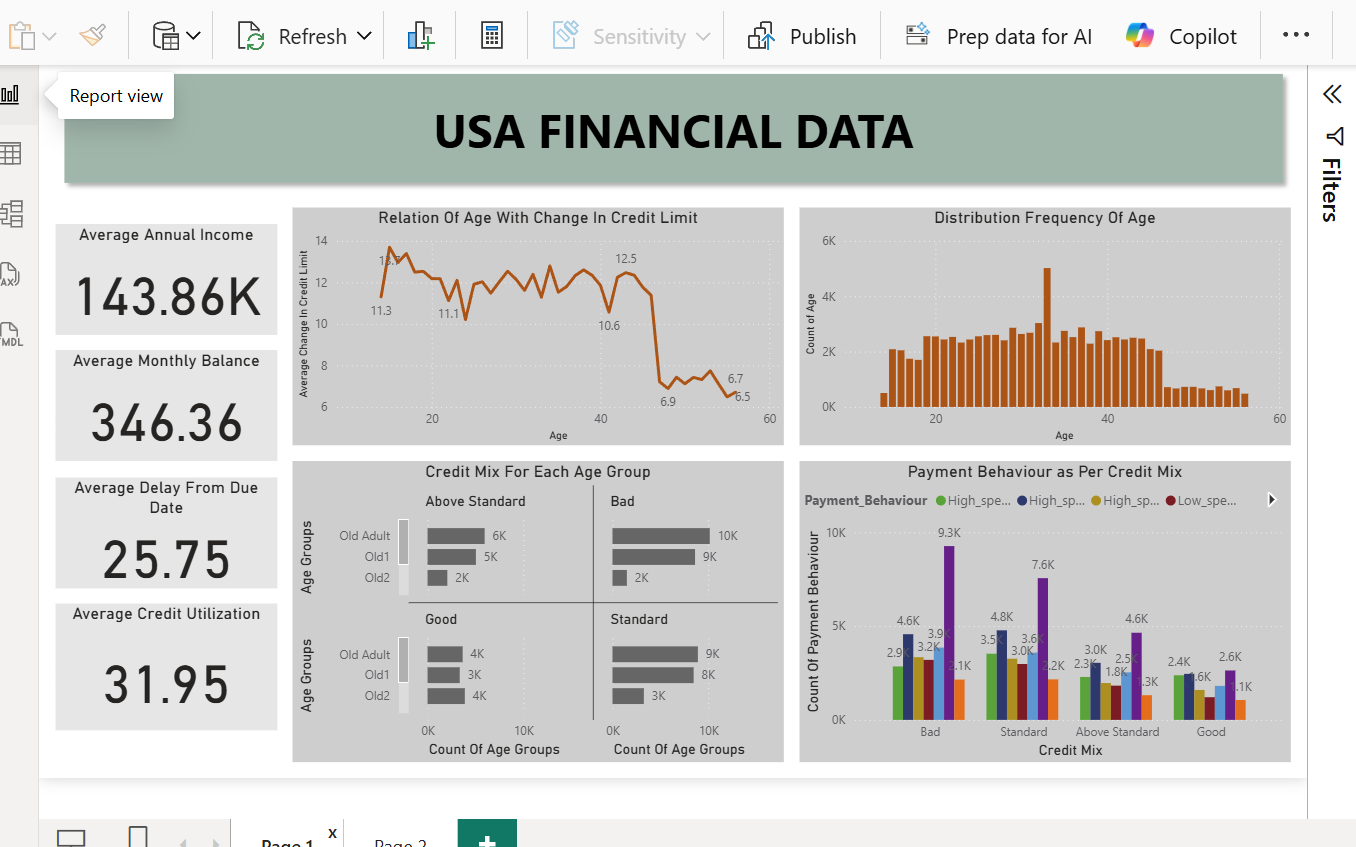

Layout of this report page (visuals, bound fields, positions):
{"tool":"powerbi","page":{"name":"Page 1","canvas":[1280,720],"ordinal":0},"visuals":[{"type":"card","title":"Average Annual Income","fields":{"Values":["Avg(email_attachments.Annual_Income)"]},"box":[16,160,224,112],"z":0},{"type":"card","title":"Average Monthly Balance","fields":{"Values":["Avg(email_attachments.Monthly_Balance)"]},"box":[16,288,224,112],"z":1000},{"type":"card","title":"Average Delay From Due Date","fields":{"Values":["Avg(email_attachments.Delay_from_due_date)"]},"box":[16,416,224,112],"z":2000},{"type":"card","title":"Average Credit Utilization","fields":{"Values":["Avg(email_attachments.Credit_Utilization_Ratio)"]},"box":[16,544,224,128],"z":3000},{"type":"shape","title":"USA FINANCIAL DATA","box":[16,0,1248,128],"z":4000},{"type":"lineChart","title":"Relation Of Age With Change In Credit Limit","fields":{"Category":["email_attachments.Age"],"Y":["Avg(email_attachments.Changed_Credit_Limit)"]},"box":[256,144,496,240],"z":5000},{"type":"clusteredColumnChart","title":"Distribution Frequency Of Age","fields":{"Category":["email_attachments.Age"],"Y":["CountNonNull(email_attachments.Age)"]},"box":[768,144,496,240],"z":6000},{"type":"clusteredBarChart","title":"Credit Mix For Each Age Group","fields":{"Category":["email_attachments.Age Groups"],"Y":["CountNonNull(email_attachments.Age Groups)"],"Rows":["email_attachments.Credit_Mix"]},"box":[256,400,496,304],"z":7000},{"type":"clusteredColumnChart","title":"Payment Behaviour as Per Credit Mix","fields":{"Category":["email_attachments.Credit_Mix"],"Y":["CountNonNull(email_attachments.Payment_Behaviour)"],"Series":["email_attachments.Payment_Behaviour"]},"box":[768,400,496,304],"z":8000}]}

Visuals, with their boxes on the page's 1280x720 design canvas (x1, y1, x2, y2). These are canvas units, not pixel positions in the 1356x847 screenshot, which may show the page scaled, cropped or inside an application window:
"Average Annual Income" card: box(16, 160, 240, 272)
"Average Monthly Balance" card: box(16, 288, 240, 400)
"Average Delay From Due Date" card: box(16, 416, 240, 528)
"Average Credit Utilization" card: box(16, 544, 240, 672)
"USA FINANCIAL DATA" shape: box(16, 0, 1264, 128)
"Relation Of Age With Change In Credit Limit" lineChart: box(256, 144, 752, 384)
"Distribution Frequency Of Age" clusteredColumnChart: box(768, 144, 1264, 384)
"Credit Mix For Each Age Group" clusteredBarChart: box(256, 400, 752, 704)
"Payment Behaviour as Per Credit Mix" clusteredColumnChart: box(768, 400, 1264, 704)
